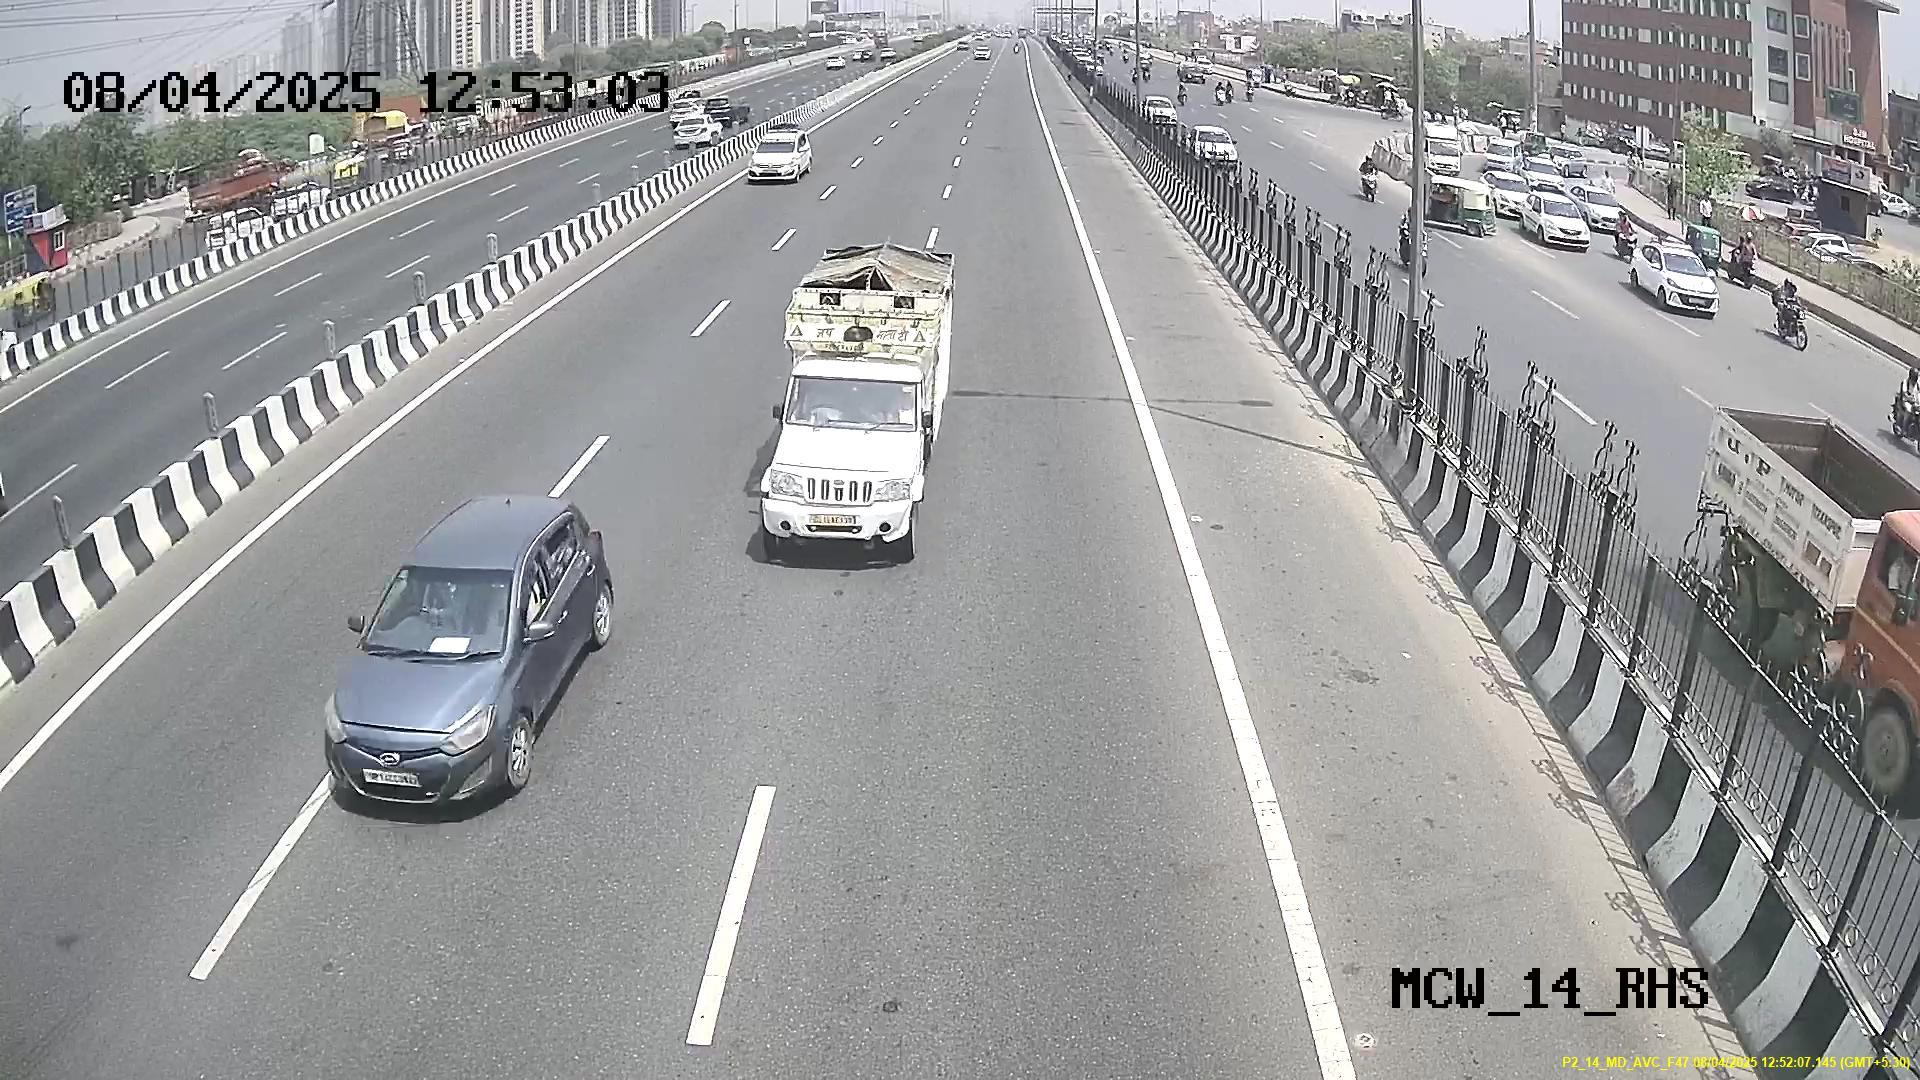car: (319, 543, 568, 818), (756, 345, 939, 563), (744, 124, 815, 190)
